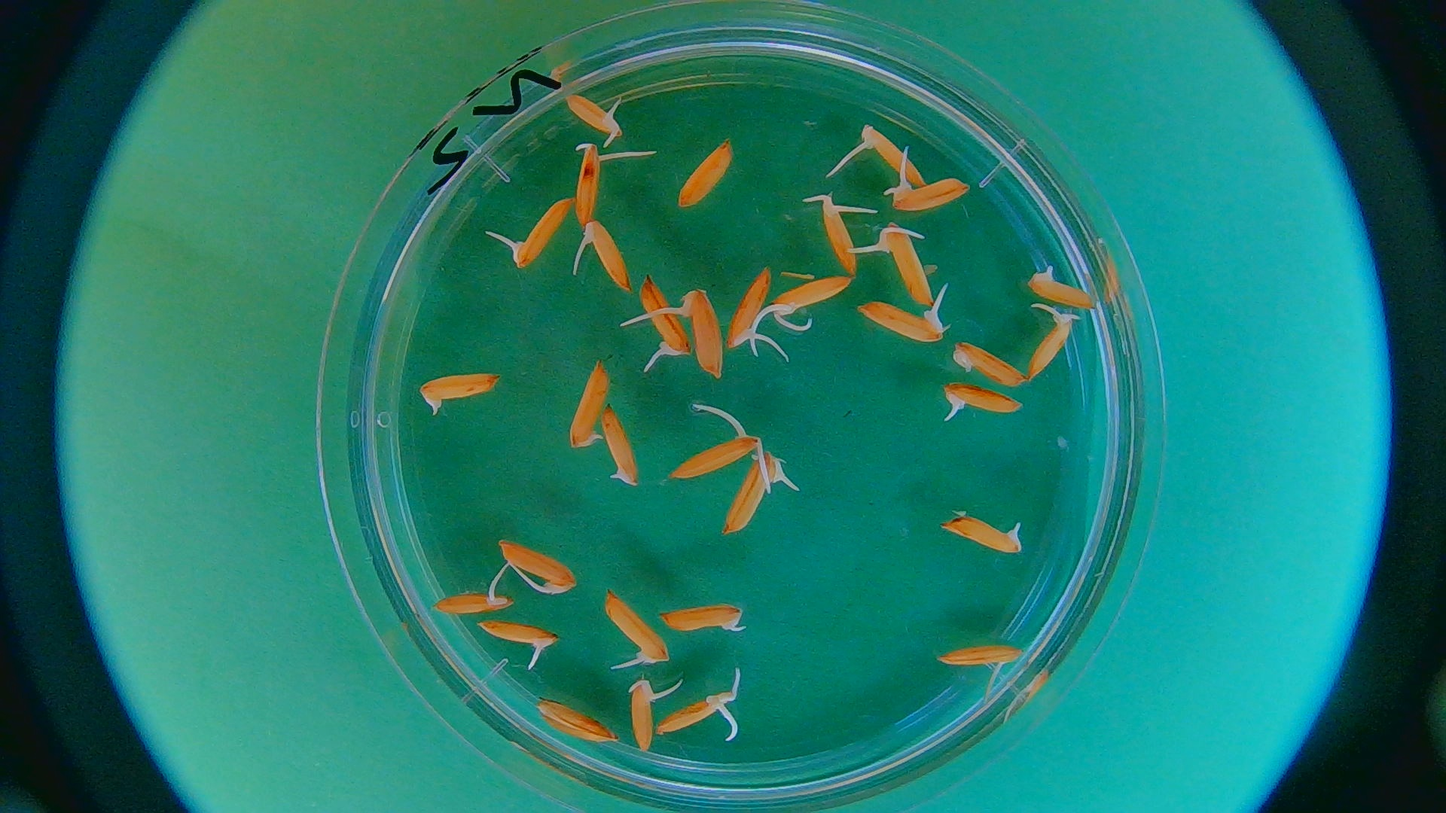no: (409, 370, 500, 419), (675, 140, 737, 211), (952, 336, 1027, 390), (565, 361, 609, 448), (597, 403, 639, 488), (534, 698, 612, 742)
yes: (600, 588, 670, 667), (725, 454, 786, 538), (877, 224, 932, 309), (508, 194, 570, 269), (1027, 297, 1082, 379), (671, 428, 752, 481), (861, 126, 926, 190), (639, 279, 689, 360), (657, 684, 734, 736), (861, 301, 950, 345), (1020, 268, 1103, 315), (582, 219, 636, 291), (499, 543, 578, 592), (566, 142, 612, 226), (729, 269, 772, 351), (558, 88, 623, 142), (940, 379, 1024, 419), (685, 286, 722, 376), (826, 199, 869, 276), (660, 602, 744, 641), (766, 279, 847, 319), (885, 178, 966, 214), (942, 517, 1022, 553), (474, 623, 560, 656), (429, 586, 514, 619), (625, 681, 662, 754), (935, 641, 1023, 671)
